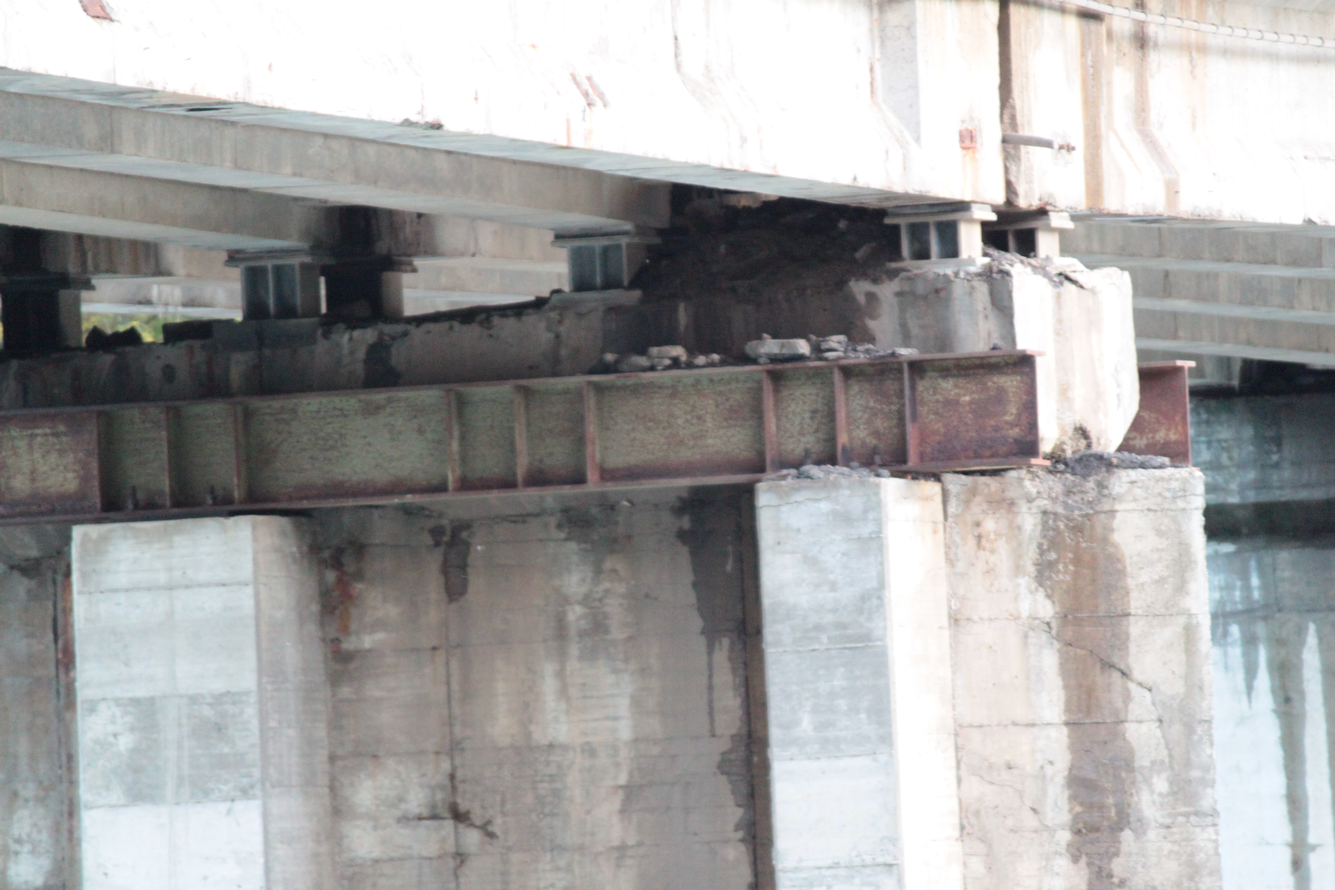Corrosion/Exposed rebar: (555, 67, 627, 119), (566, 73, 616, 109), (80, 1, 117, 22)
Crack: (1020, 592, 1189, 779)
Leaching: (580, 267, 930, 370)
Spalling: (319, 259, 1131, 344), (1007, 470, 1181, 536), (1012, 433, 1173, 501), (1, 336, 206, 371), (62, 0, 127, 31), (398, 114, 452, 134)
